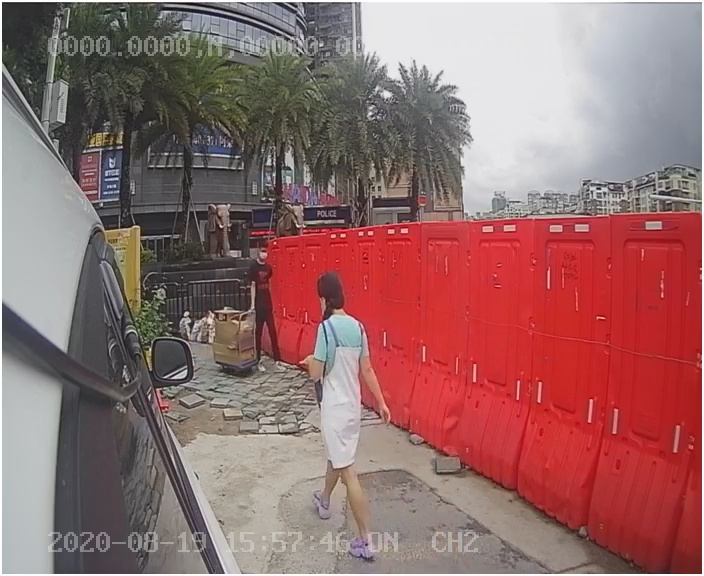person: (295, 272, 402, 521)
